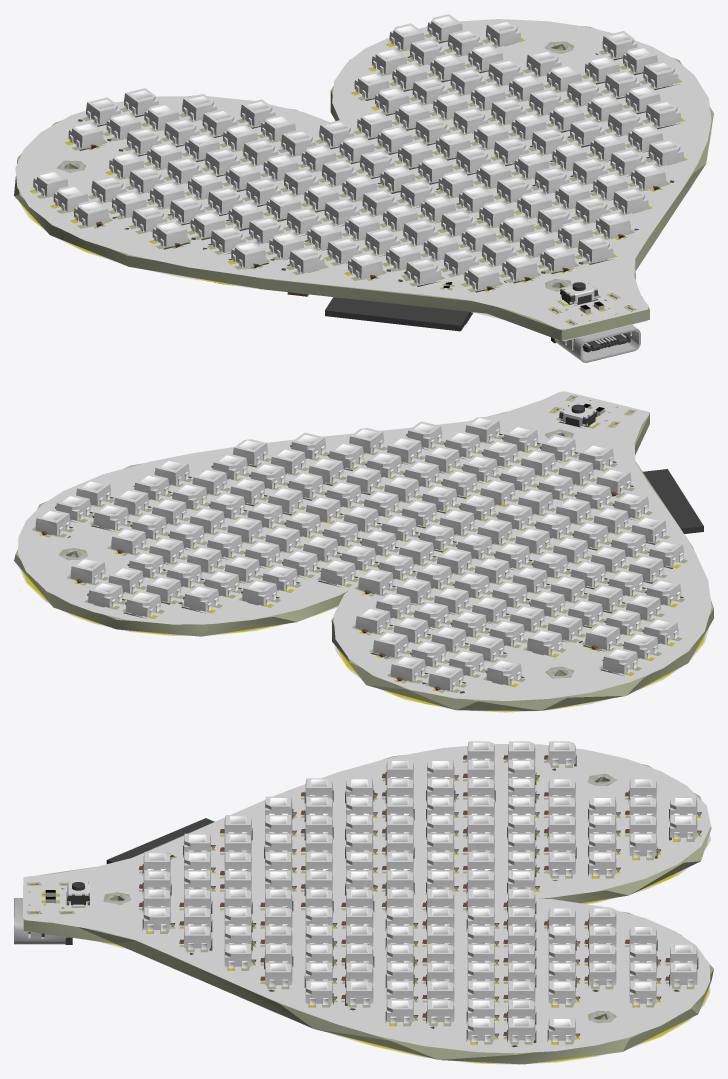
Rendered from heart.glb.
3 renders of one model, top to bottom at view 1: azimuth 30°, elevation 25°; view 2: azimuth 150°, elevation 25°; view 3: azimuth 270°, elevation 25°, orthographic.
Visible parts, largest first — view 1: heart; view 2: heart; view 3: heart.
Boxes of the visible parts, box(x1,y1,x2,y2) form: heart: box(14, 14, 713, 362); heart: box(14, 391, 713, 712); heart: box(14, 741, 713, 1064).
Size of the model in its own units: 0.0945 by 0.00688 by 0.0899.
